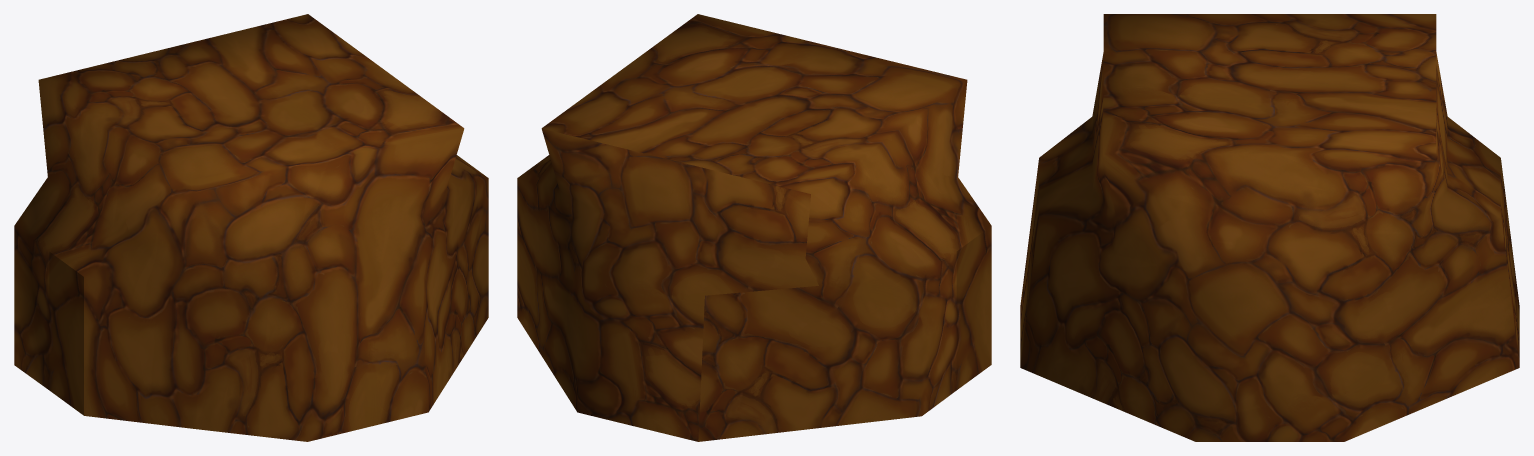
Rendered from ConnectorHubEdited.fbx.
3 views of the same model, side by side, from view 1: azimuth 30°, elevation 25°; view 2: azimuth 150°, elevation 25°; view 3: azimuth 270°, elevation 25° (orthographic). The views are drawn at different scales.
Parts seen in each view (by area): view 1: ConnectorHub1; view 2: ConnectorHub1; view 3: ConnectorHub1.
Part boxes in pixels (x1,y1,x2,y2): ConnectorHub1: (14, 14, 488, 441); ConnectorHub1: (517, 14, 991, 441); ConnectorHub1: (1020, 14, 1519, 441).
Bounding box in the file's own units: 1.03 × 0.5776 × 1.03.
